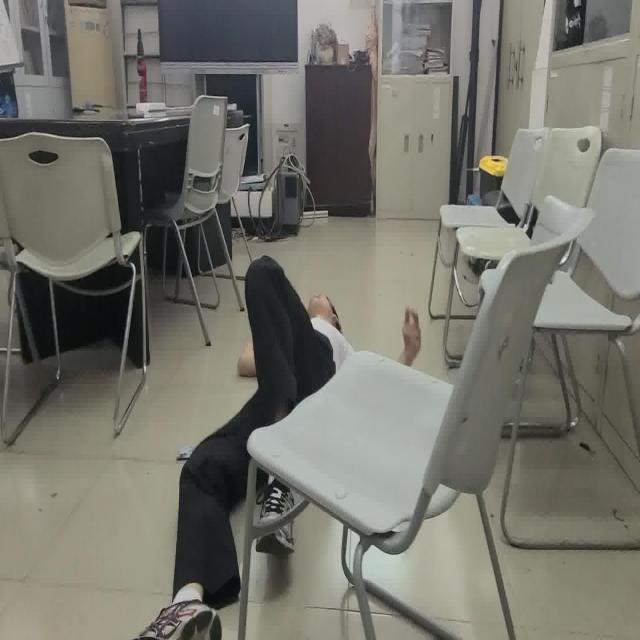fall: (134, 253, 425, 640)
